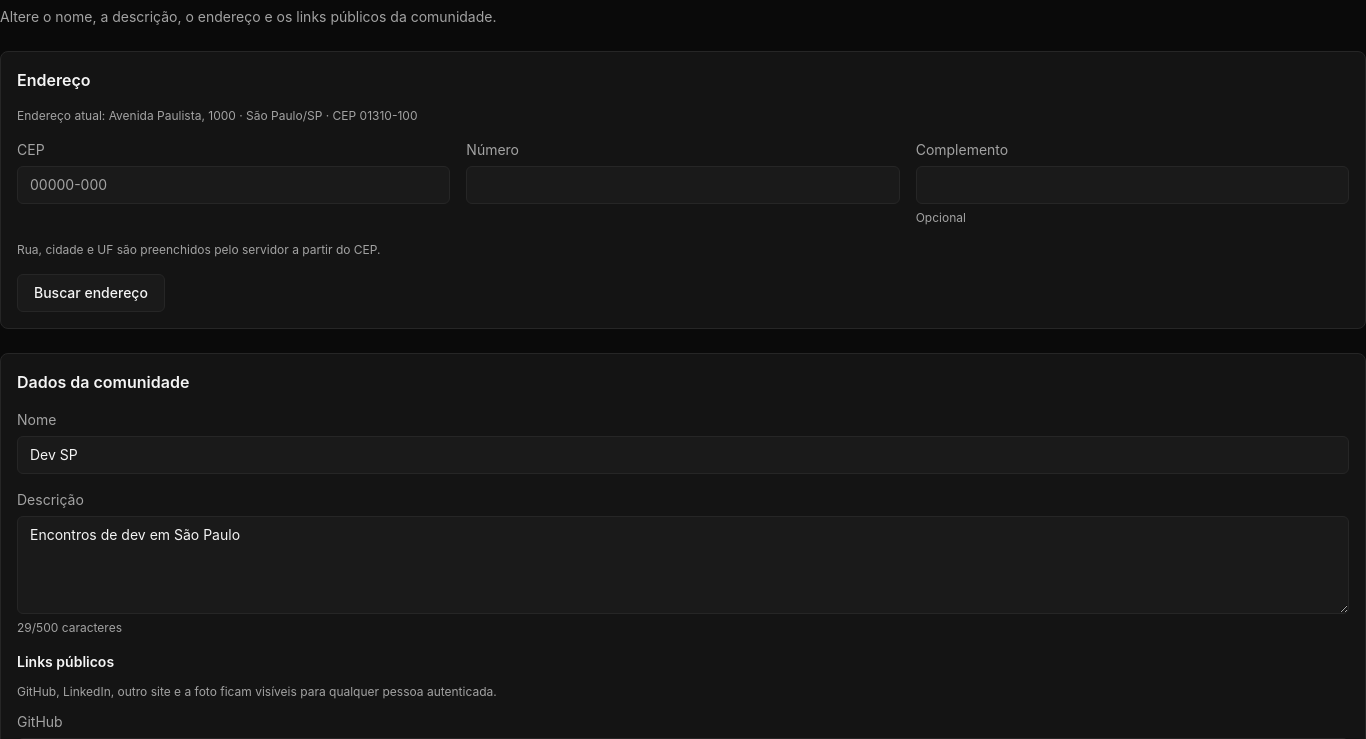
EditCommunityPage › salvar envia PUT com os campos e volta ao detalhe com o aviso de sucesso
Replace the text in the field labelled "Nome" with "Dev SP Editado" at {"x": 683, "y": 455}, box [17,436,1349,474]
(page scrolled)
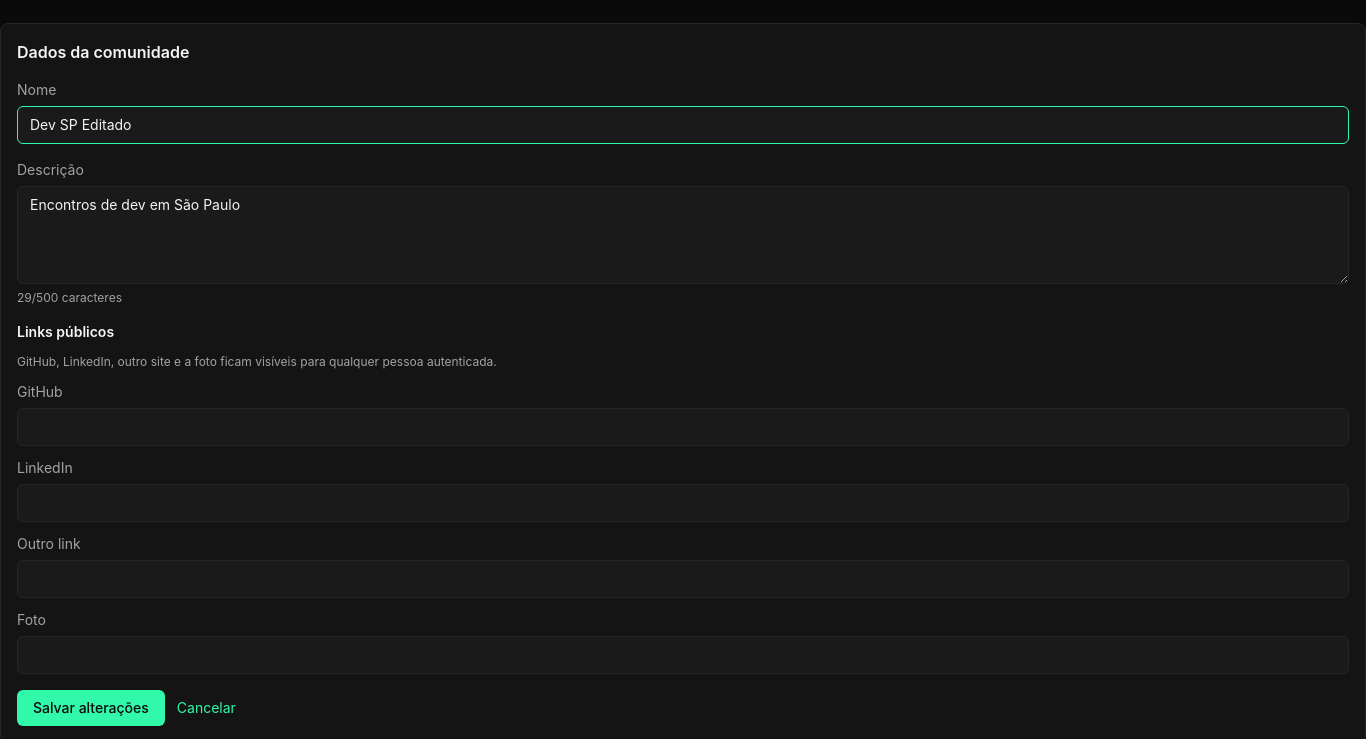
Click the button "Salvar alterações" at {"x": 91, "y": 708}, box [17,690,165,726]
(page scrolled)
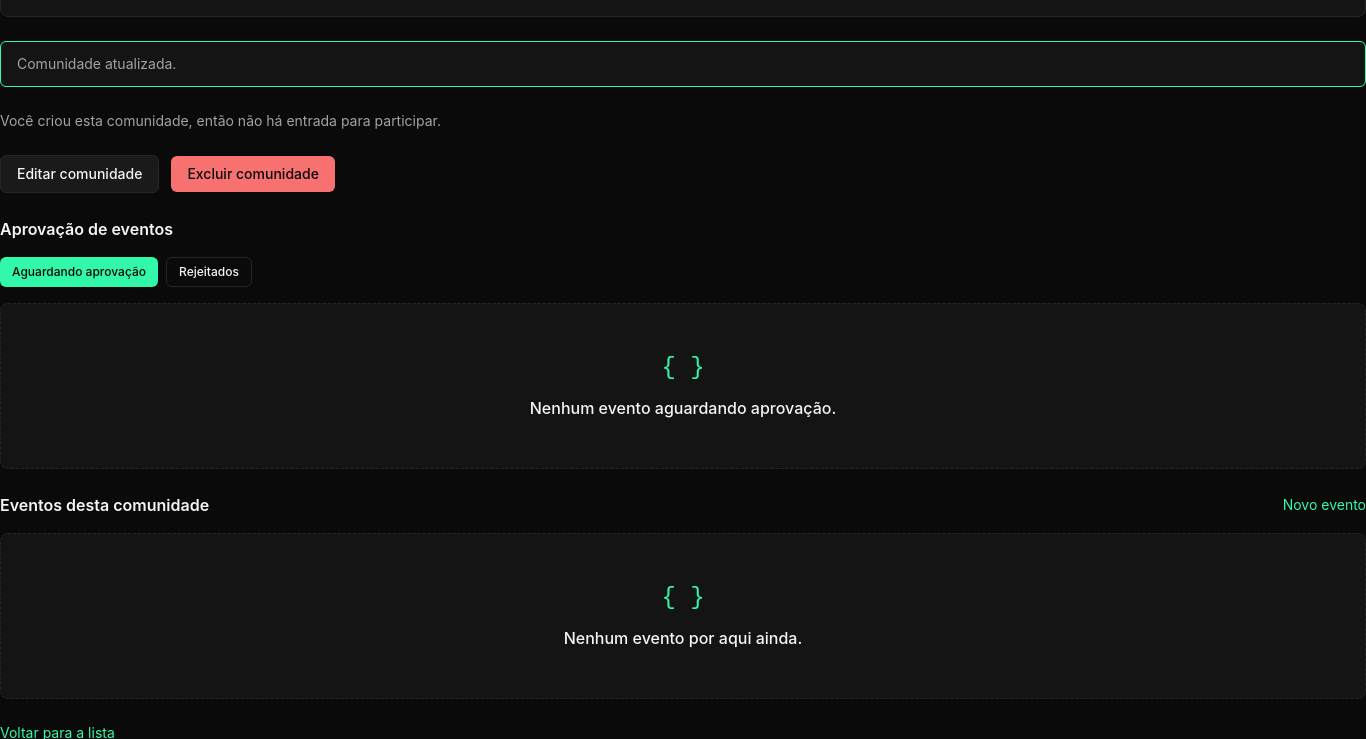
Check: the text "Comunidade atualizada." is shown, box [17,55,176,72]
